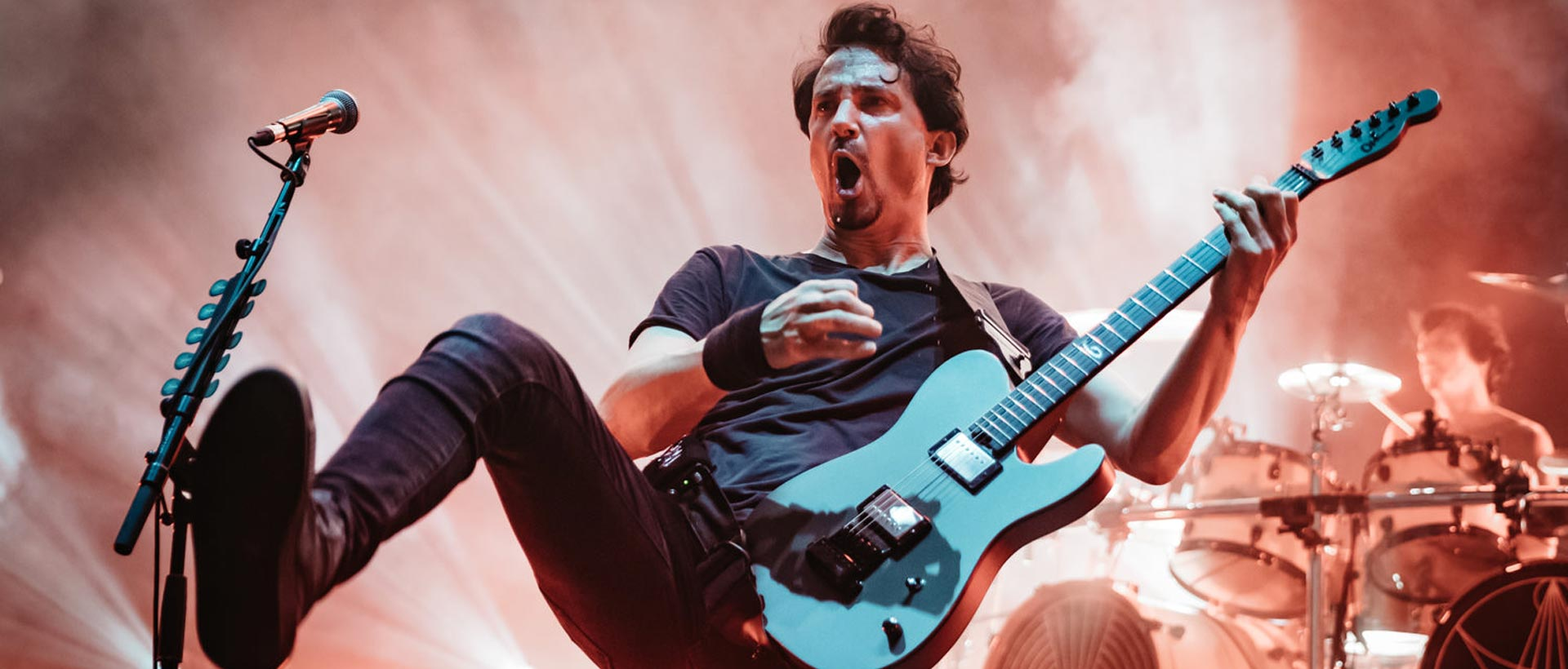acousticguitar: (728, 90, 1441, 666)
